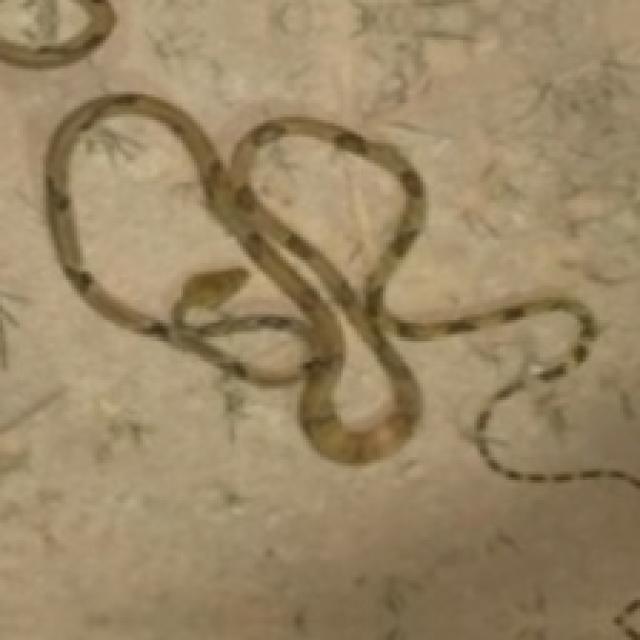dog-toothed cat snake: (46, 94, 637, 486)
